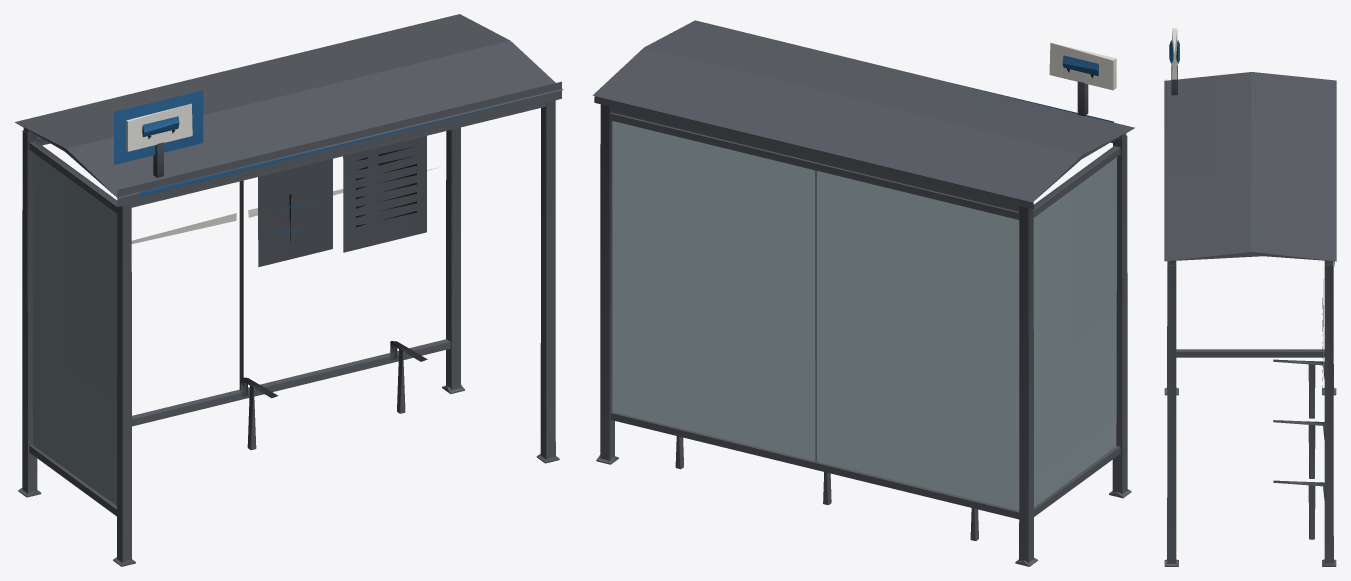
Rendered from busStop.far.glb.
3 views of the same model, side by side, from view 1: azimuth 30°, elevation 25°; view 2: azimuth 150°, elevation 25°; view 3: azimuth 270°, elevation 25° (orthographic). The views are drawn at different scales.
Parts seen in each view (by area): view 1: busStop_far; view 2: busStop_far; view 3: busStop_far.
Part boxes in pixels (<box>): busStop_far: <box>15,14,563,566</box>; busStop_far: <box>592,20,1134,566</box>; busStop_far: <box>1164,28,1336,566</box>.
Bounding box in the file's own units: 2.99 × 2.89 × 1.21.
